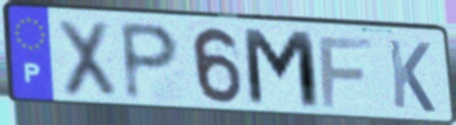6: (188, 24, 245, 108)
F: (315, 35, 375, 110)
K: (385, 36, 438, 116)
M: (238, 26, 325, 114)
P: (117, 19, 183, 105)
X: (54, 17, 120, 103)
